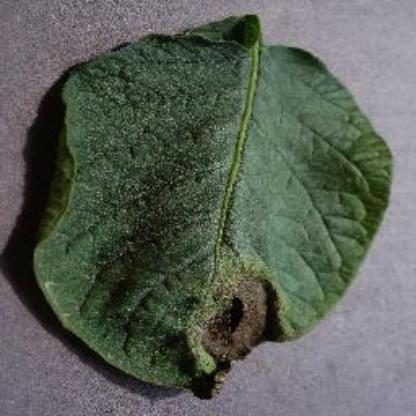Late-Blight: (25, 17, 382, 387)
